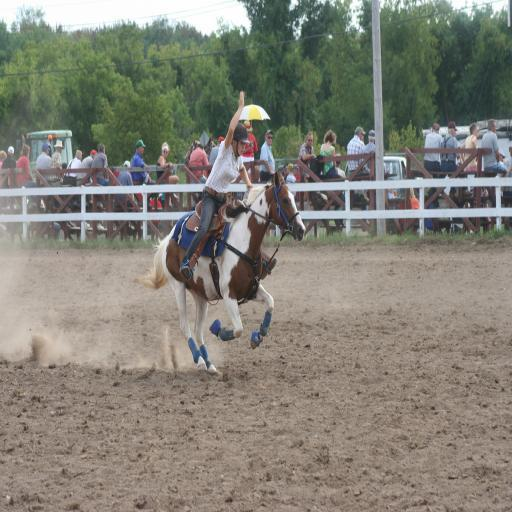horse: (135, 169, 307, 374)
